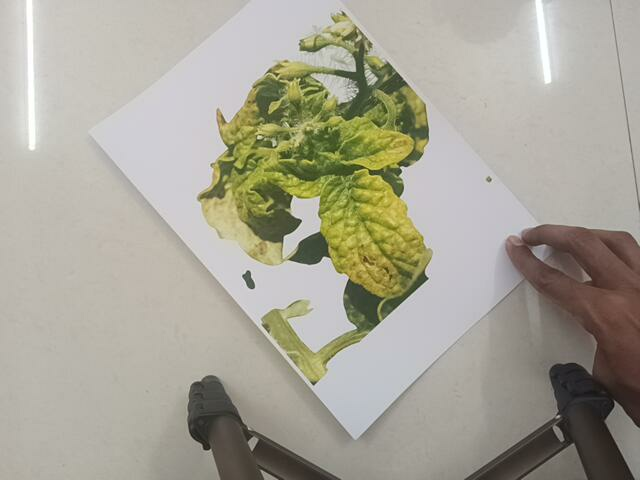Tomamto_Leaf_curl_virus: (182, 35, 437, 350)
